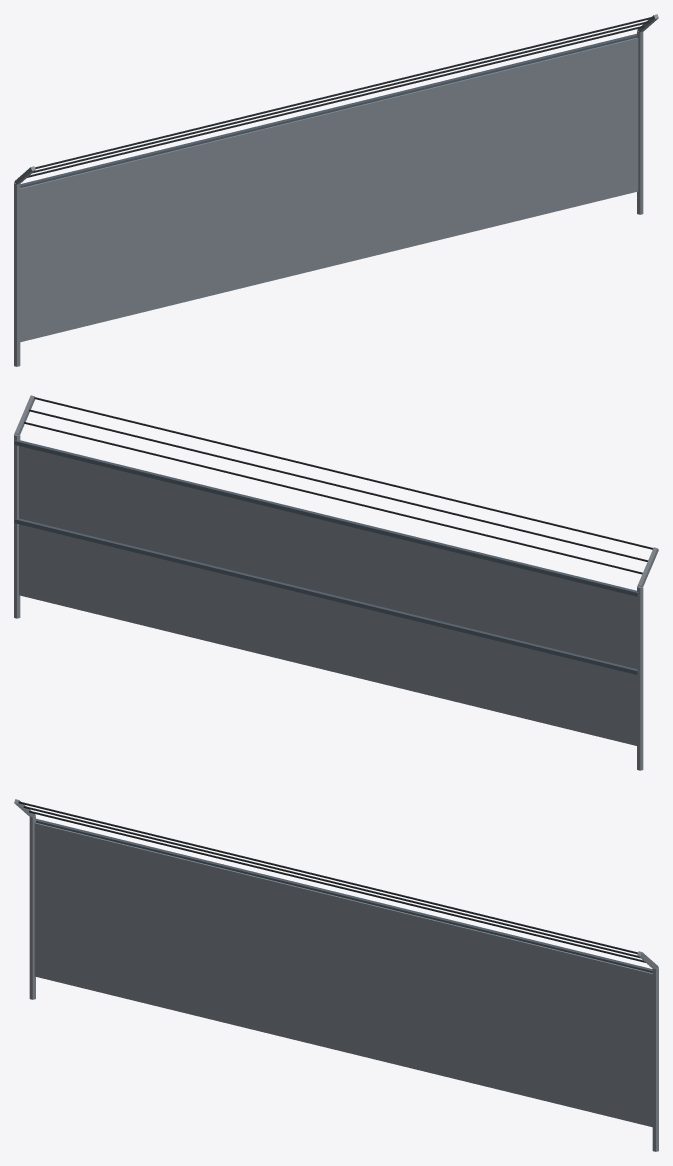
Rendered from Scenery_Fence.fbx.
3 renders of one model, top to bottom at view 1: azimuth 30°, elevation 25°; view 2: azimuth 150°, elevation 25°; view 3: azimuth 330°, elevation 25°, orthographic.
Parts seen in each view (by area): view 1: Scenery_Fence; view 2: Scenery_Fence; view 3: Scenery_Fence.
Part boxes in pixels (x1,y1,x2,y2): Scenery_Fence: (14, 14, 658, 366); Scenery_Fence: (14, 395, 658, 770); Scenery_Fence: (14, 799, 658, 1151).
Bounding box in the file's own units: 10.1 × 3.22 × 0.5399.
